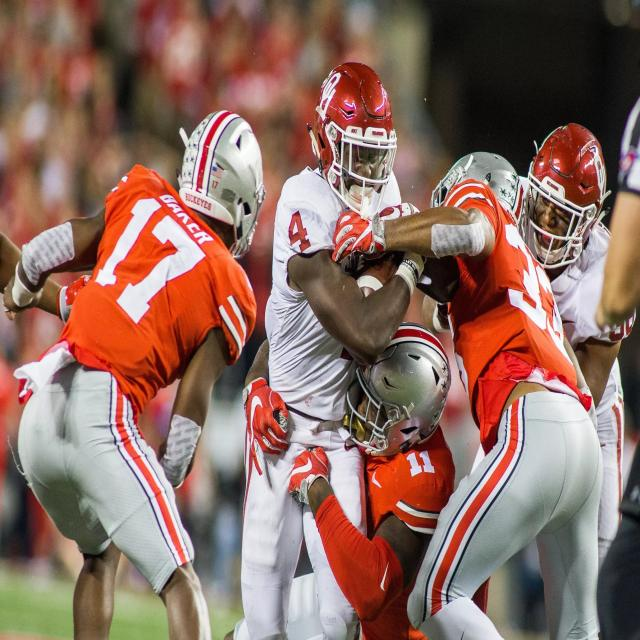illegal_helmet: (341, 318, 455, 464), (174, 100, 269, 270), (304, 55, 399, 224), (520, 117, 614, 281)
